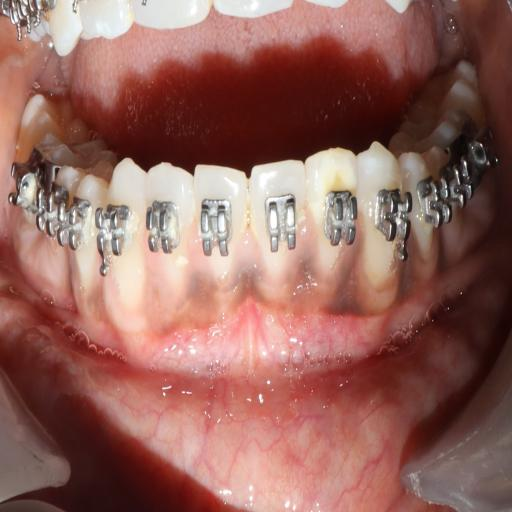correct_brace: (260, 182, 301, 258), (320, 177, 359, 253), (195, 192, 236, 260), (372, 178, 413, 244), (97, 196, 126, 264), (148, 199, 180, 255)
incorrect_brace: (306, 152, 360, 271), (147, 164, 195, 282)
